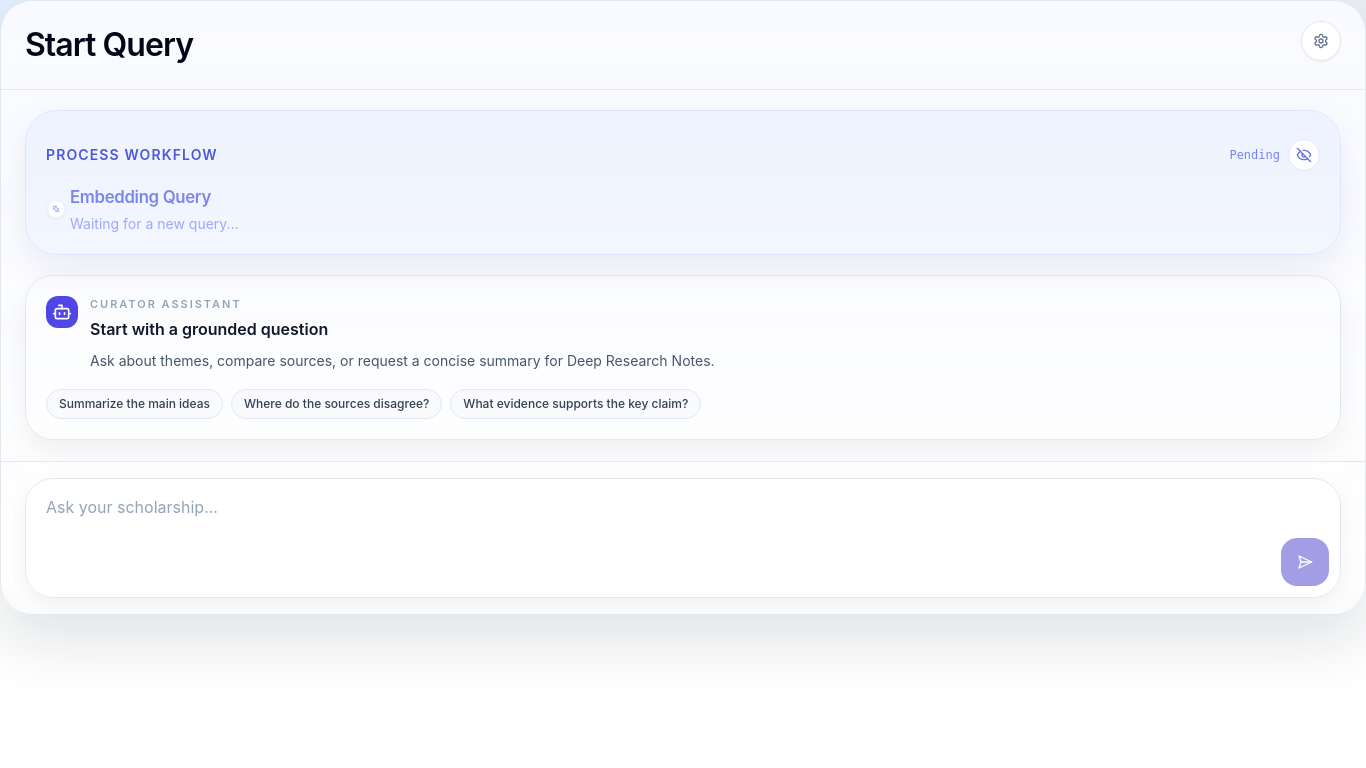
ChatPanel › renders scholar workflow with expandable node details
The image size is (1366, 768).
Expected: the heading "Start Query" is shown, [25,21,193,69]
Expected: the text "Process workflow" is shown, [46,145,218,165]
Click the button named "Show workflow details": [1304, 155] box [1288,139,1320,171]
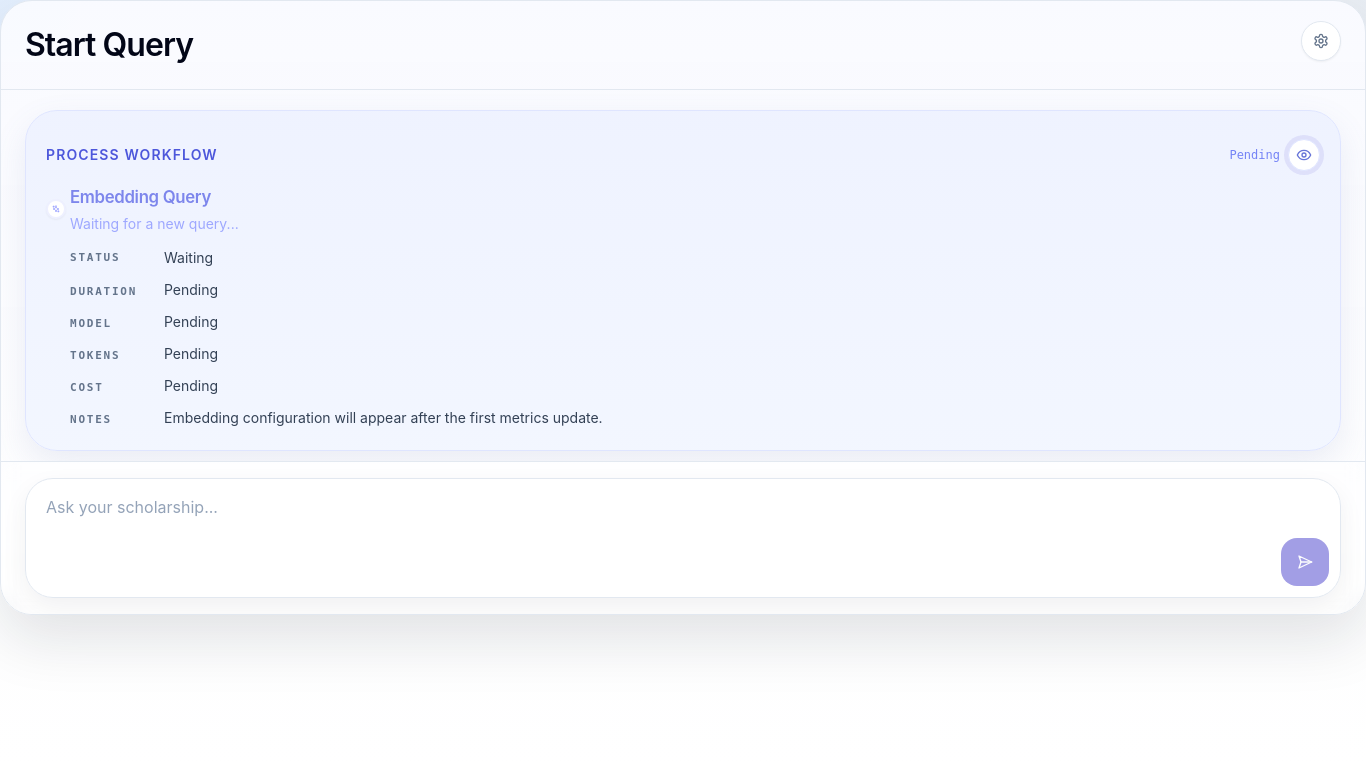
Result: the text "Duration" is shown at [70,285,137,298]
Result: the text "Cost" is shown at [70,381,104,394]
